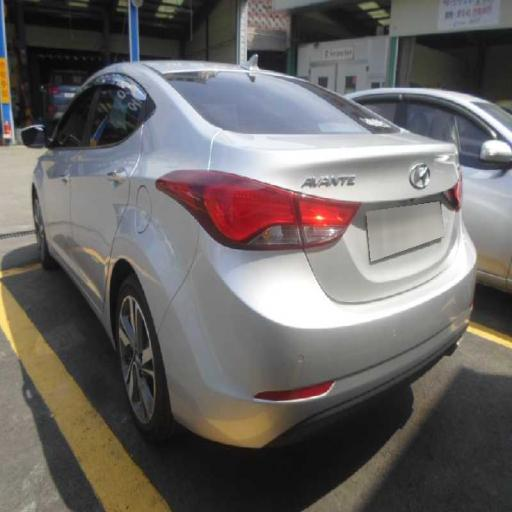dent: (230, 186, 348, 320), (96, 182, 185, 294)
scratch: (64, 134, 230, 343)
